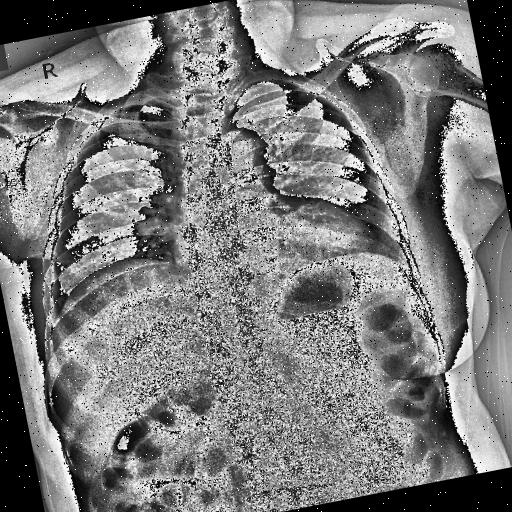0- Aortic enlargement: (210, 122, 273, 192), (208, 122, 274, 184), (210, 122, 272, 185)
3- Cardiomegaly: (168, 196, 376, 300), (166, 192, 378, 290), (168, 199, 378, 285)
